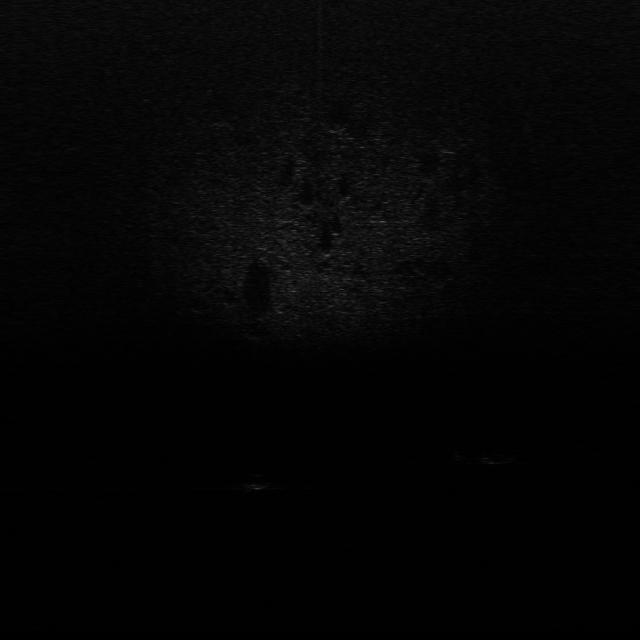ball: (241, 470, 273, 492)
human body: (448, 446, 536, 470)
